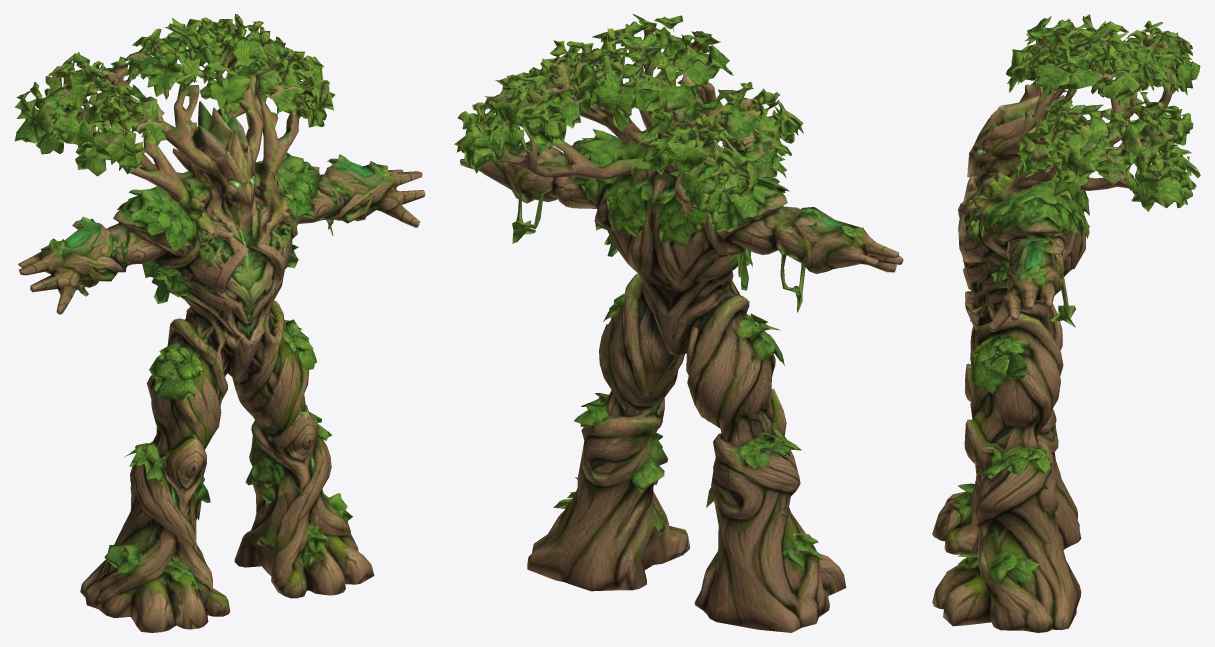
Rendered from bark-titan.glb.
3 renders of one model, left to right at view 1: azimuth 30°, elevation 25°; view 2: azimuth 150°, elevation 25°; view 3: azimuth 270°, elevation 25°, orthographic. The views are drawn at different scales.
Bounding box in the file's own units: 1.49 × 1.9 × 0.8426.
1 material, 1 textured.
